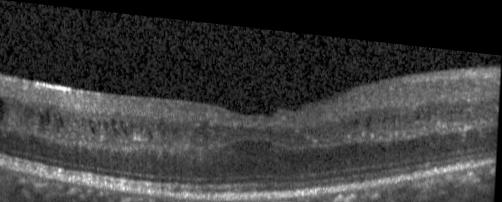intraretinal_cyst: (112, 116, 123, 133), (121, 118, 129, 133), (0, 96, 5, 120), (89, 116, 96, 131), (58, 110, 64, 124), (148, 126, 155, 137), (366, 108, 372, 119), (40, 111, 45, 122), (104, 117, 109, 128), (48, 110, 52, 122), (355, 110, 360, 118), (416, 105, 421, 110), (383, 108, 387, 114)
